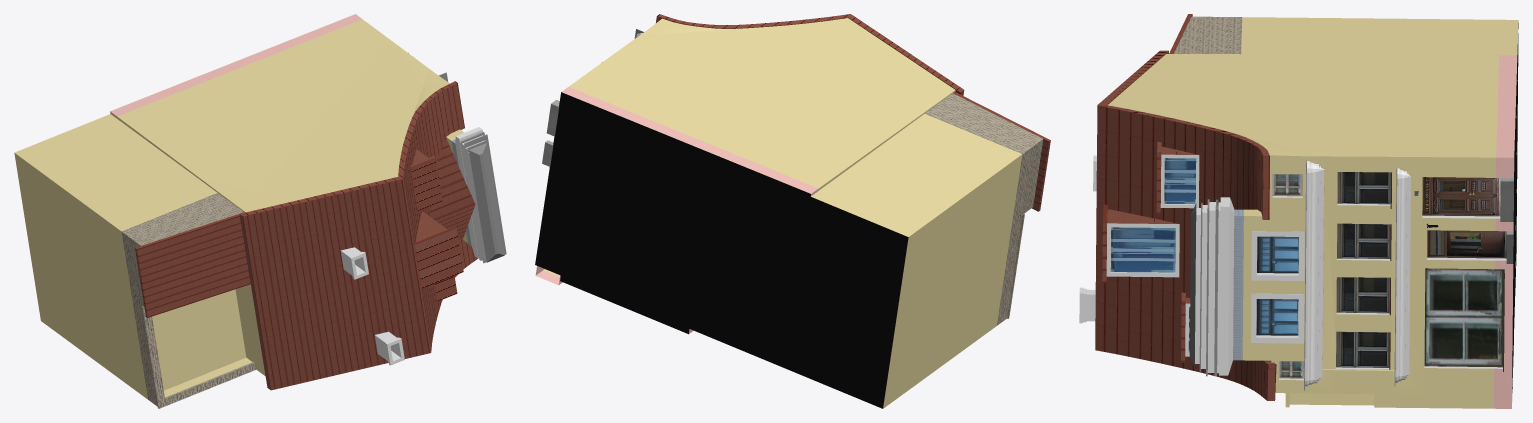
File: nunne-5.obj
3 views of the same model, side by side, from view 1: azimuth 30°, elevation 25°; view 2: azimuth 150°, elevation 25°; view 3: azimuth 270°, elevation 25° (orthographic). The views are drawn at different scales.
Visible parts, largest first — view 1: Line01, Box08, Object01, Object71, Plane02, Object95, Object97, Object02, Line21, Object96, Box39, Box40 (+1 smaller); view 2: Line01, Box08, Object01, Object71, Object104; view 3: Line01, Object01, Box08, Box34, Line21, Line22, Line23, Box33, Box38, Object102, Object95, Box42 (+1 smaller).
Boxes of the visible parts, <box> form: Line01: <box>110,14,482,375</box>; Box08: <box>14,114,252,406</box>; Object01: <box>239,81,477,390</box>; Object71: <box>135,212,250,317</box>; Plane02: <box>430,139,475,239</box>; Object95: <box>469,143,504,262</box>; Object97: <box>414,227,463,288</box>; Object02: <box>141,306,255,408</box>; Line21: <box>460,132,506,263</box>; Object96: <box>410,156,442,210</box>; Box39: <box>374,331,404,365</box>; Box40: <box>340,247,368,279</box>; Line01: <box>535,18,955,368</box>; Box08: <box>785,93,1043,408</box>; Object01: <box>656,14,964,95</box>; Object71: <box>953,92,1050,211</box>; Object104: <box>560,276,693,334</box>; Line01: <box>1108,54,1517,395</box>; Object01: <box>1095,50,1276,400</box>; Box08: <box>1174,16,1518,287</box>; Box34: <box>1106,209,1179,277</box>; Line21: <box>1195,199,1220,376</box>; Line22: <box>1305,161,1324,386</box>; Line23: <box>1395,168,1410,382</box>; Box33: <box>1160,146,1199,208</box>; Box38: <box>1374,393,1512,408</box>; Object102: <box>1289,393,1374,405</box>; Object95: <box>1189,203,1196,367</box>; Box42: <box>1500,178,1513,221</box>.
Size of the model in its own units: 18.86 by 11.04 by 14.84.
